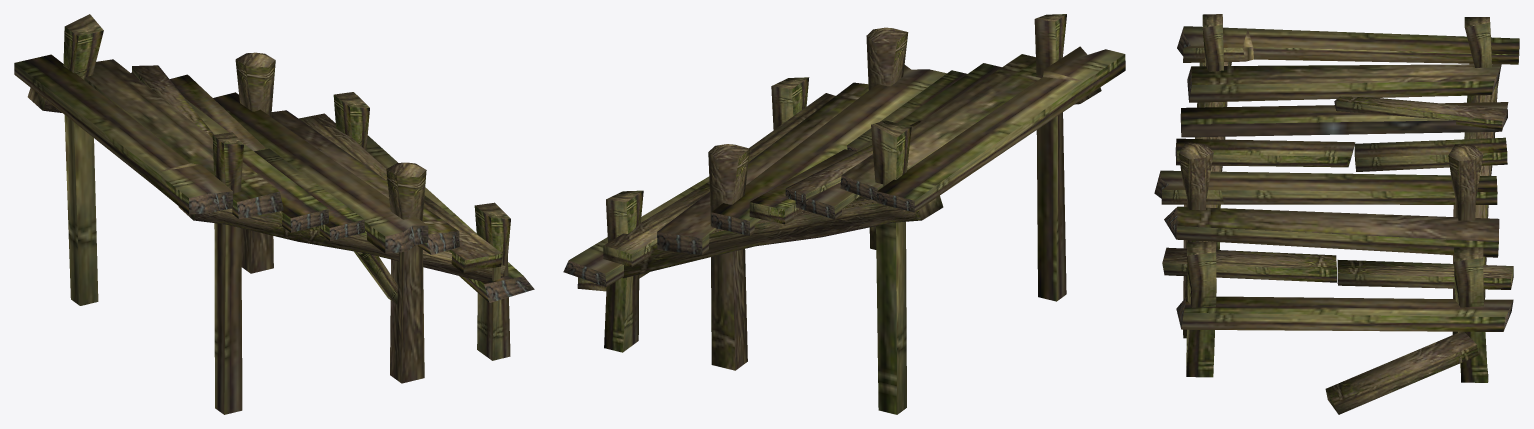
The model's file is S_Build_Village068.FBX.
3 views of the same model, side by side, from view 1: azimuth 30°, elevation 25°; view 2: azimuth 150°, elevation 25°; view 3: azimuth 270°, elevation 25° (orthographic). The views are drawn at different scales.
Parts seen in each view (by area): view 1: S_Build_Village068; view 2: S_Build_Village068; view 3: S_Build_Village068.
Part boxes in pixels (x1,y1,x2,y2): S_Build_Village068: (14,14,534,414); S_Build_Village068: (563,14,1125,414); S_Build_Village068: (1154,14,1519,414).
Bounding box in the file's own units: 899 × 790 × 596.
